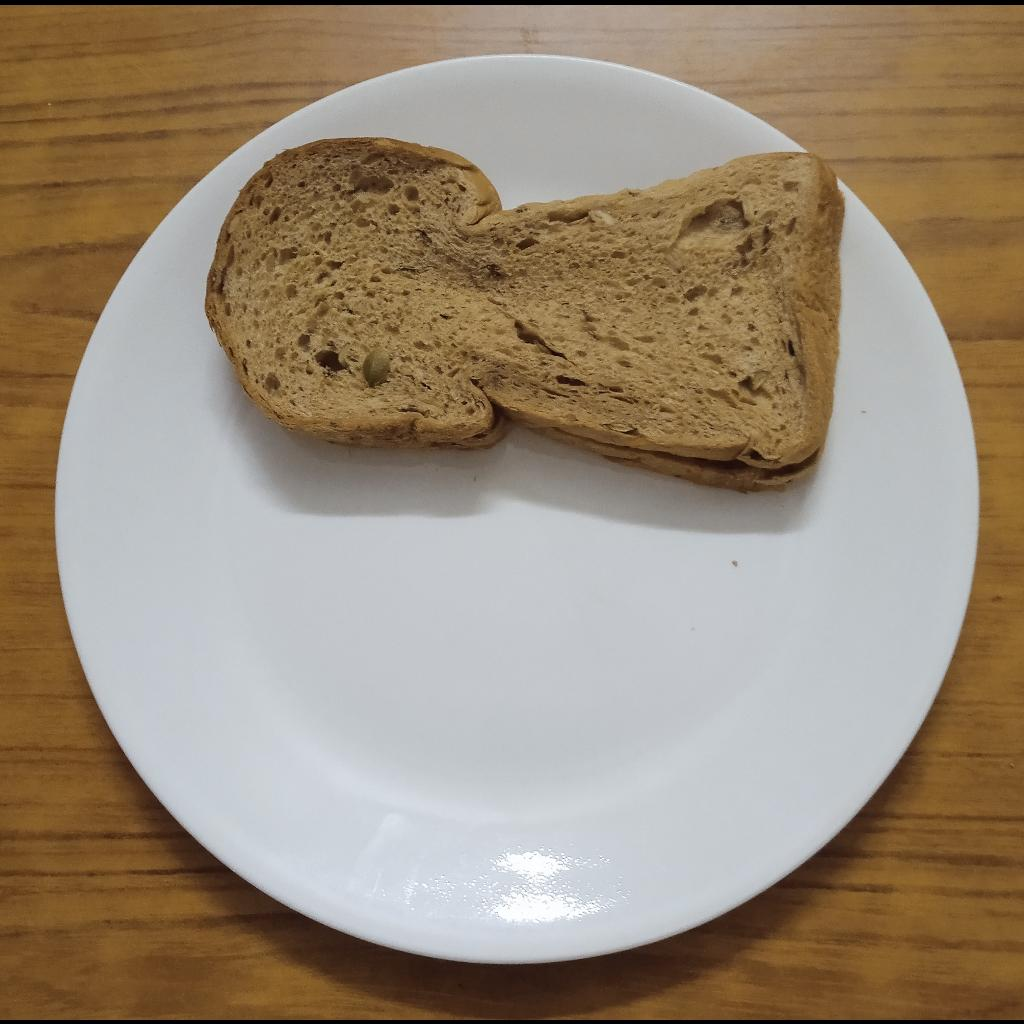bread: (199, 135, 844, 496)
